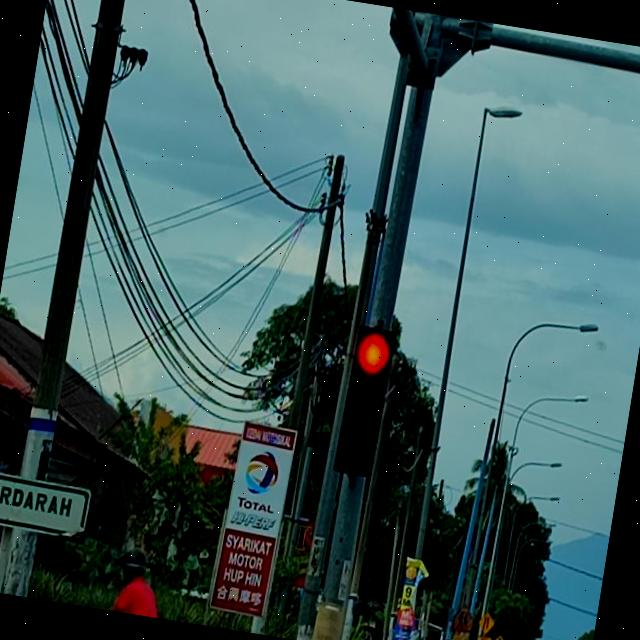red_light: (332, 324, 397, 478)
